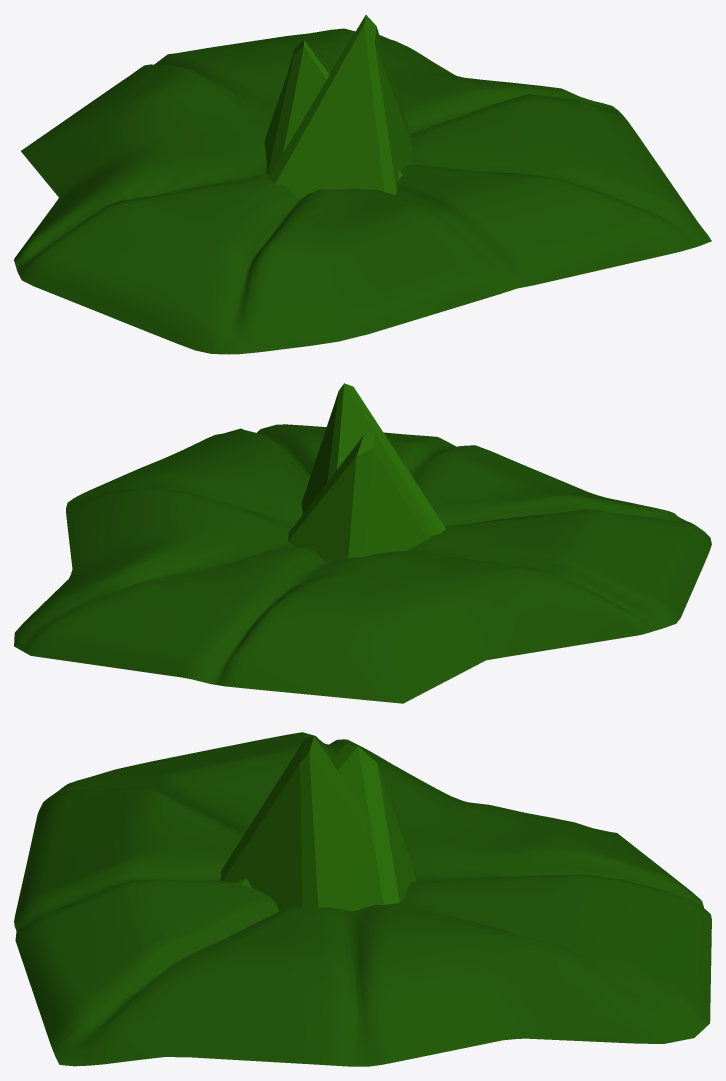
Rendered from lowPolyIsland1.fbx.
3 renders of one model, top to bottom at view 1: azimuth 30°, elevation 25°; view 2: azimuth 150°, elevation 25°; view 3: azimuth 270°, elevation 25°, orthographic. The views are drawn at different scales.
Parts seen in each view (by area): view 1: indigo, polySurface1; view 2: indigo, polySurface1; view 3: indigo, polySurface1.
Part boxes in pixels (x1,y1,x2,y2): indigo: (14, 28, 711, 354); polySurface1: (264, 15, 413, 198); indigo: (14, 424, 711, 703); polySurface1: (287, 383, 445, 561); indigo: (14, 732, 711, 1066); polySurface1: (220, 736, 416, 911).
Bounding box in the file's own units: 46.14 × 14.22 × 41.82.
